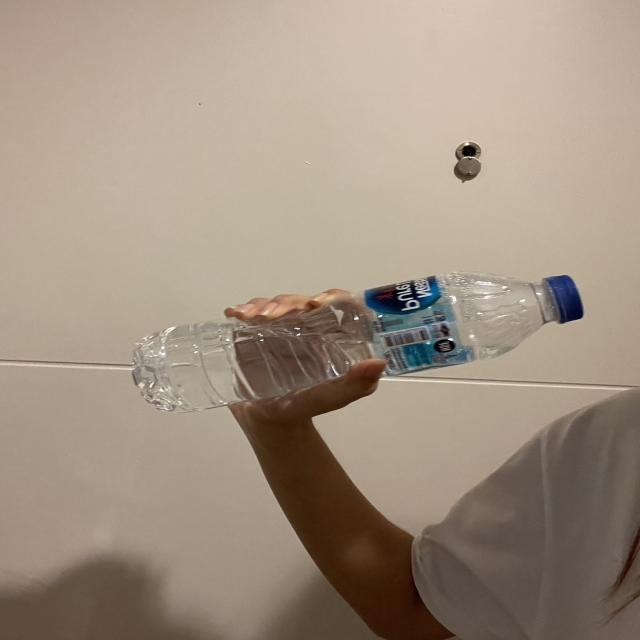bottle: (134, 274, 589, 417)
